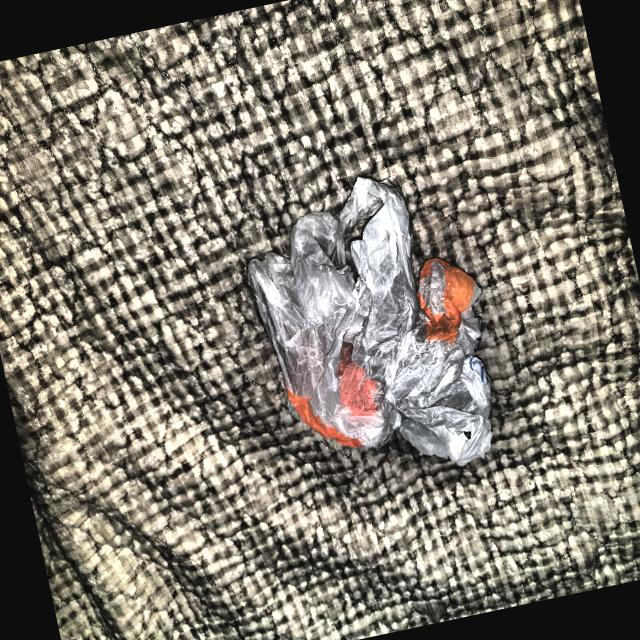plastic bag: (210, 136, 531, 513)
